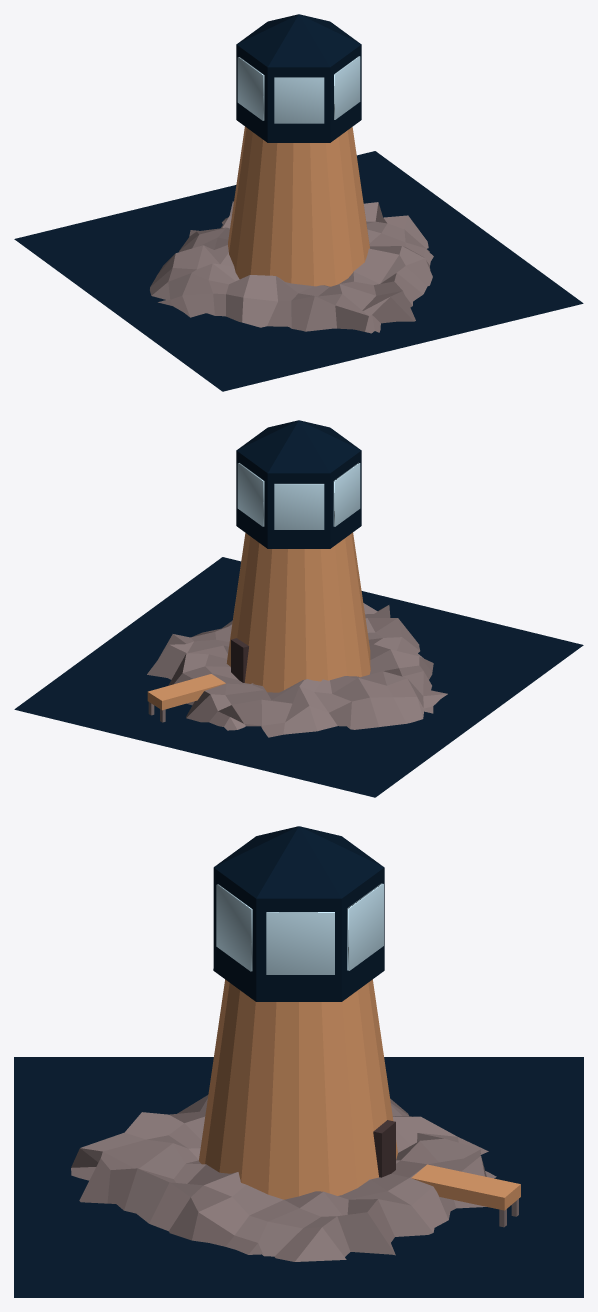
File: LightHouse.fbx
The picture shows the model from 3 angles, top to bottom: view 1: azimuth 30°, elevation 25°; view 2: azimuth 150°, elevation 25°; view 3: azimuth 270°, elevation 25°; orthographic projection. The views are drawn at different scales.
Visible parts, largest first — view 1: _TileBase, Stone Base, Buff Base, Iron Keep, Iron Cap, Glass Window.019, Glass Window.017, Glass Window.020; view 2: _TileBase, Stone Base, Buff Base, Iron Keep, Iron Cap, Glass Window.021, Buff Dock, Glass Window.017, Glass Window.018, Taupe Door; view 3: _TileBase, Buff Base, Stone Base, Iron Keep, Iron Cap, Glass Window.016, Buff Dock, Glass Window.018, Glass Window.020, Taupe Door.
Part boxes in pixels (x1,y1,x2,y2): _TileBase: (14,151,583,391); Stone Base: (150,201,433,333); Buff Base: (228,126,369,286); Iron Keep: (236,44,361,142); Iron Cap: (236,14,361,67); Glass Window.019: (274,77,324,123); Glass Window.017: (237,57,264,120); Glass Window.020: (334,56,360,119); _TileBase: (14,557,583,797); Stone Base: (147,603,447,737); Buff Base: (226,532,370,692); Iron Keep: (236,450,361,548); Iron Cap: (236,420,361,473); Glass Window.021: (274,483,324,529); Buff Dock: (147,674,225,710); Glass Window.017: (333,462,360,526); Glass Window.018: (237,463,264,526); Taupe Door: (231,638,248,682); _TileBase: (14,1057,583,1297); Buff Base: (199,979,397,1199); Stone Base: (71,1095,496,1261); Iron Keep: (213,867,384,1001); Iron Cap: (214,826,383,898); Glass Window.016: (266,912,334,974); Buff Dock: (411,1164,520,1210); Glass Window.018: (347,883,383,970); Glass Window.020: (216,884,252,971); Taupe Door: (373,1120,395,1177).
Bounding box in the file's own units: 100 × 74.24 × 100.
